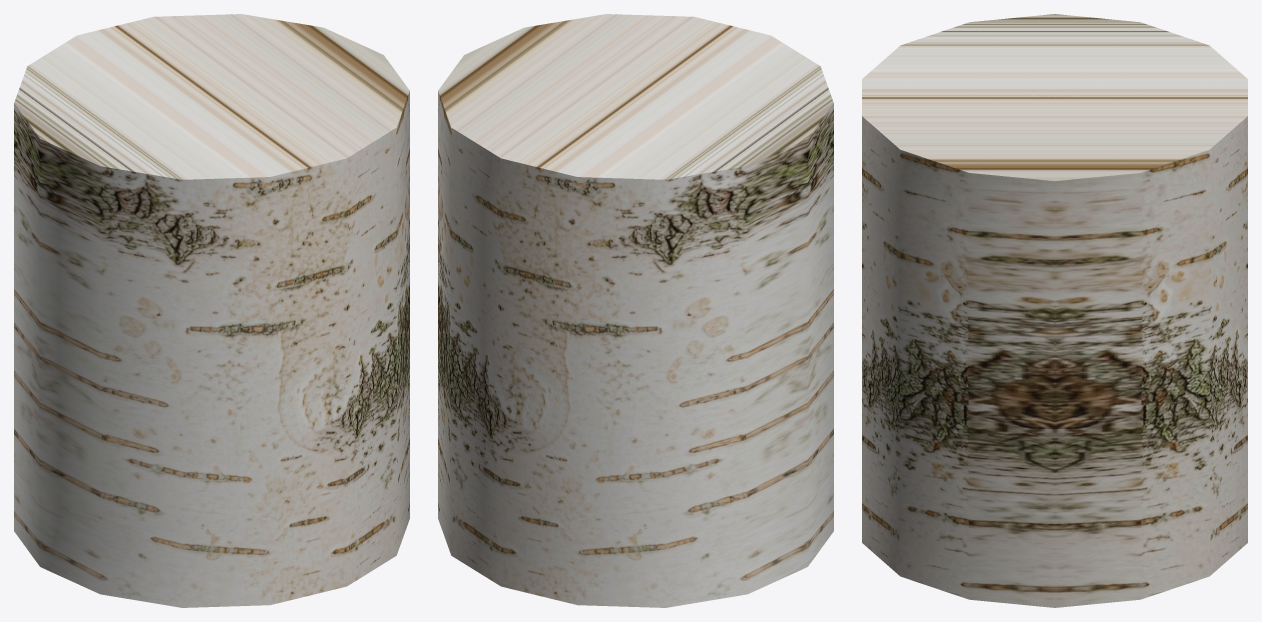
Rendered from birchlogv.glb.
The picture shows the model from 3 angles, left to right: view 1: azimuth 30°, elevation 25°; view 2: azimuth 150°, elevation 25°; view 3: azimuth 270°, elevation 25°; orthographic projection.
Visible parts, largest first — view 1: Birch_Log_H_Birch; view 2: Birch_Log_H_Birch; view 3: Birch_Log_H_Birch.
Boxes of the visible parts, <box> form: Birch_Log_H_Birch: <box>14,14,409,607</box>; Birch_Log_H_Birch: <box>438,14,833,607</box>; Birch_Log_H_Birch: <box>862,14,1247,607</box>.
Bounding box in the file's own units: 0.84 × 1 × 0.8189.
1 material, 1 textured.
